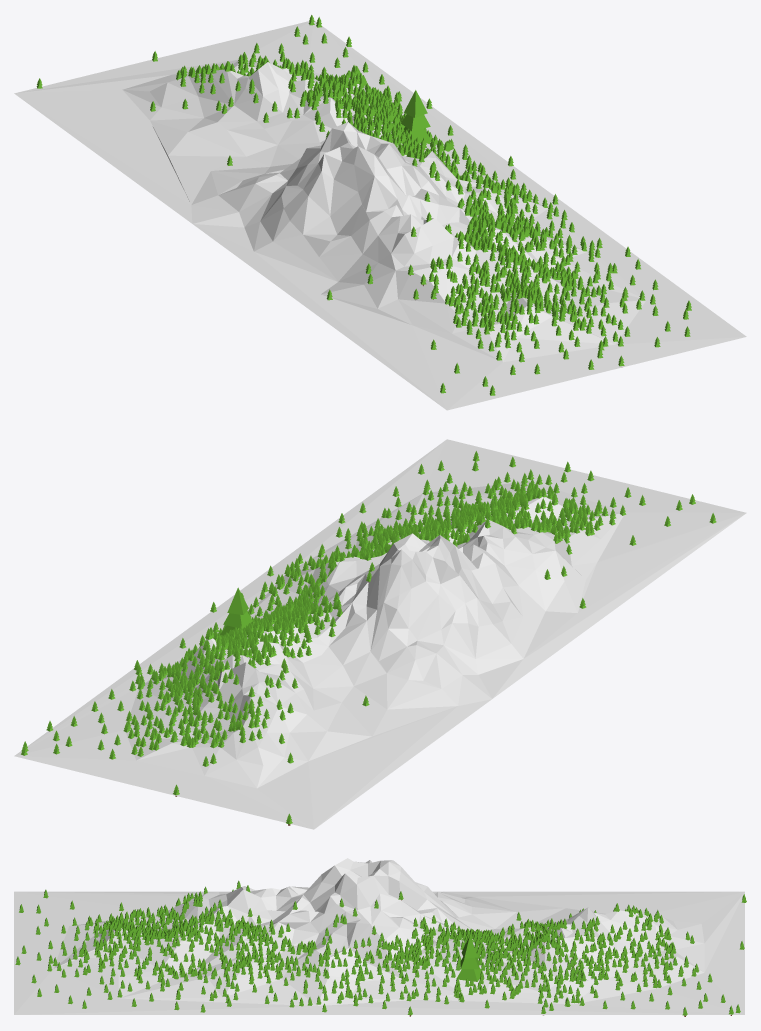
The model's file is Mountain3.fbx.
3 views of the same model, one above another, from view 1: azimuth 30°, elevation 25°; view 2: azimuth 150°, elevation 25°; view 3: azimuth 270°, elevation 25° (orthographic). The views are drawn at different scales.
Visible parts, largest first — view 1: Landscape.002, Cube; view 2: Landscape.002, Cube; view 3: Landscape.002, Cube.
Part boxes in pixels (bbox=[...]): Landscape.002: bbox=[14, 20, 746, 410]; Cube: bbox=[401, 90, 431, 143]; Landscape.002: bbox=[14, 439, 746, 829]; Cube: bbox=[220, 587, 252, 635]; Landscape.002: bbox=[14, 858, 744, 1014]; Cube: bbox=[456, 936, 481, 981].
Size of the model in its own units: 202 by 62.37 by 501.
